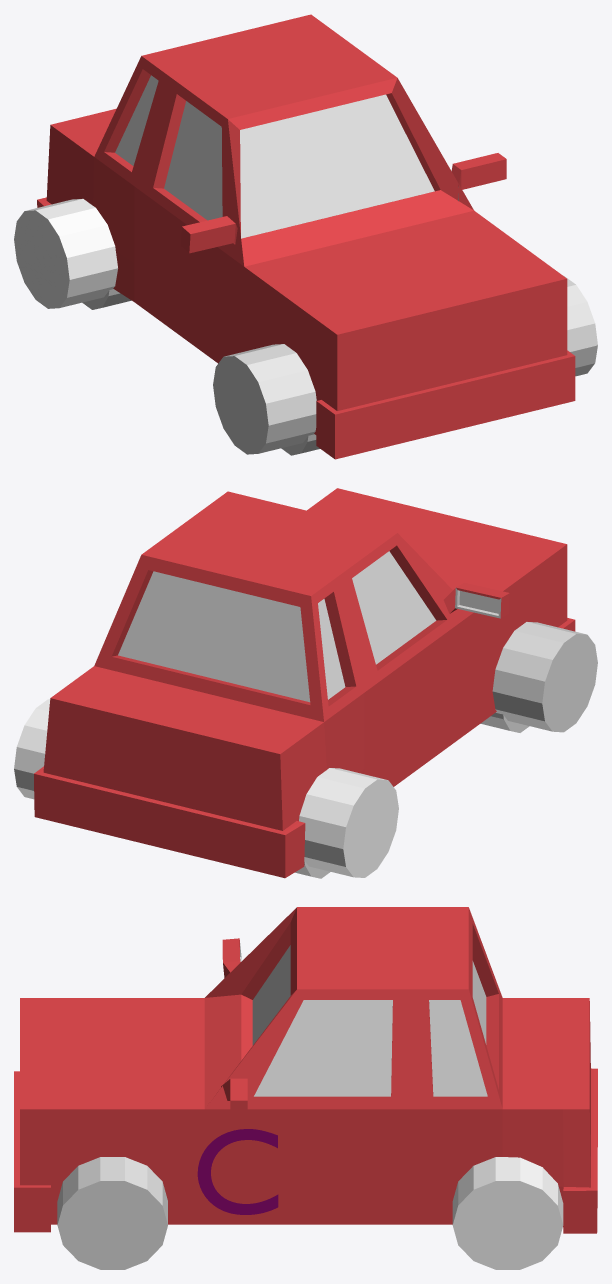
File: Car1.fbx
3 views of the same model, one above another, from view 1: azimuth 30°, elevation 25°; view 2: azimuth 150°, elevation 25°; view 3: azimuth 270°, elevation 25° (orthographic).
Parts seen in each view (by area): view 1: Cube, Cylinder, Cylinder.002; view 2: Cube, Cylinder.002, Cylinder; view 3: Cube, Cylinder, Cylinder.002, Text.
Boxes of the visible parts, box(x1,y1,x2,y2) form: Cube: box(37, 14, 575, 459); Cylinder: box(213, 275, 597, 454); Cylinder.002: box(14, 198, 117, 308); Cube: box(34, 488, 575, 878); Cylinder.002: box(14, 699, 398, 877); Cylinder: box(492, 622, 597, 732); Cube: box(14, 907, 597, 1233); Cylinder: box(57, 1157, 167, 1269); Cylinder.002: box(452, 1157, 563, 1269); Text: box(197, 1129, 278, 1214).
Bounding box in the file's own units: 286 × 213 × 443.
